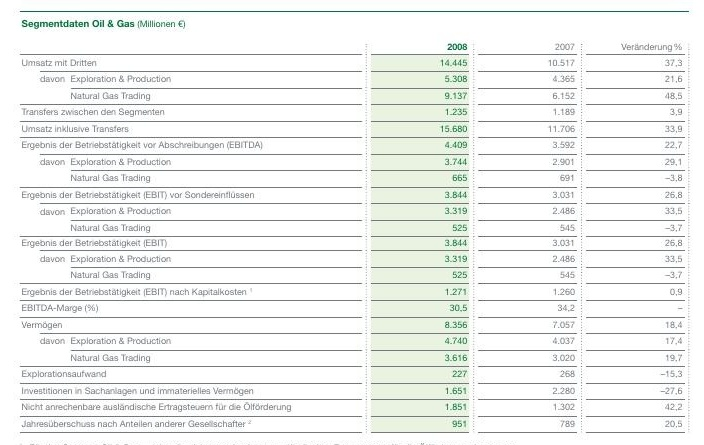table: (0, 0, 704, 445)
